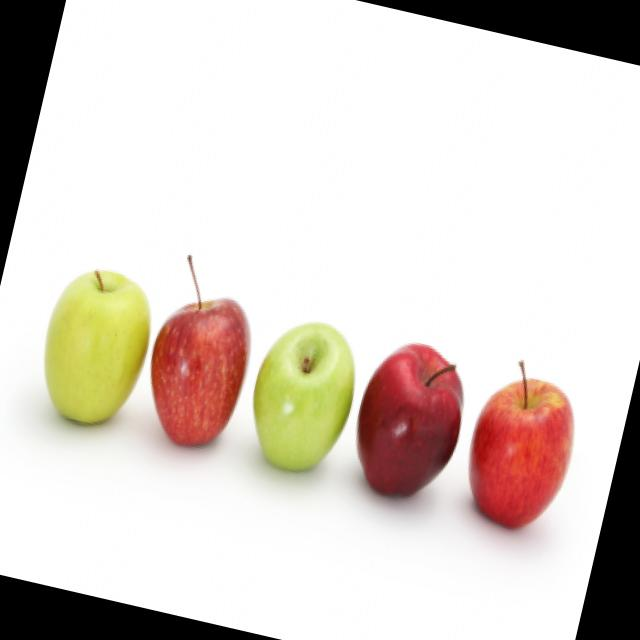apple: (336, 328, 480, 518), (30, 252, 164, 437), (238, 300, 370, 484), (453, 362, 586, 541), (136, 290, 260, 459)
